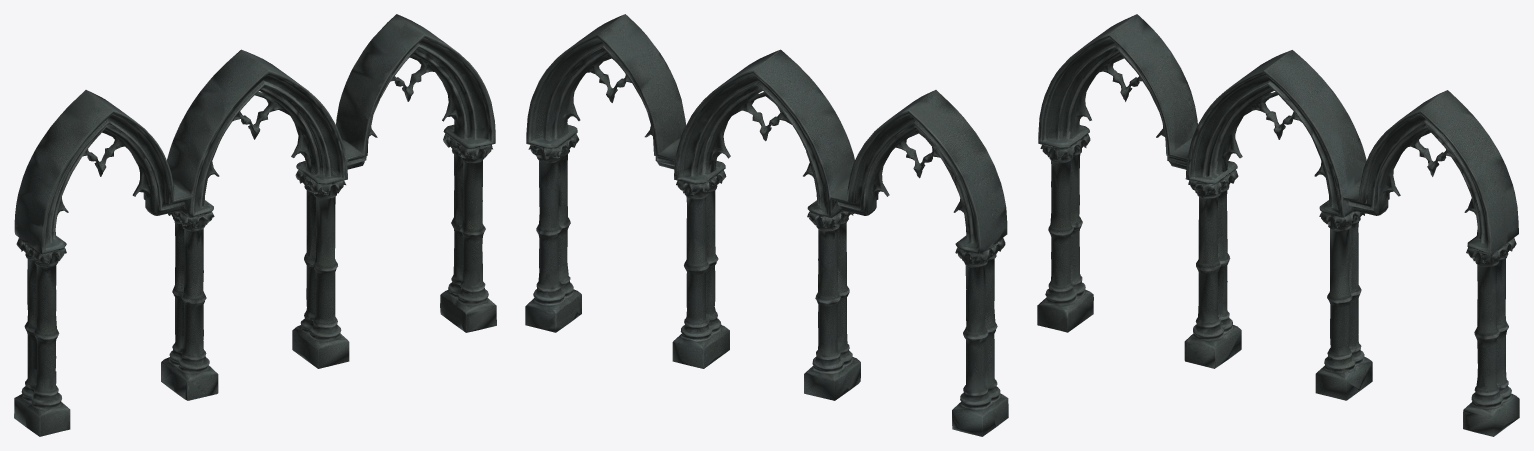
File: cloister.glb
The picture shows the model from 3 angles, left to right: view 1: azimuth 30°, elevation 25°; view 2: azimuth 150°, elevation 25°; view 3: azimuth 330°, elevation 25°; orthographic projection.
Size of the model in its own units: 1.9 by 1.24 by 0.2034.
1 material, 1 textured.
